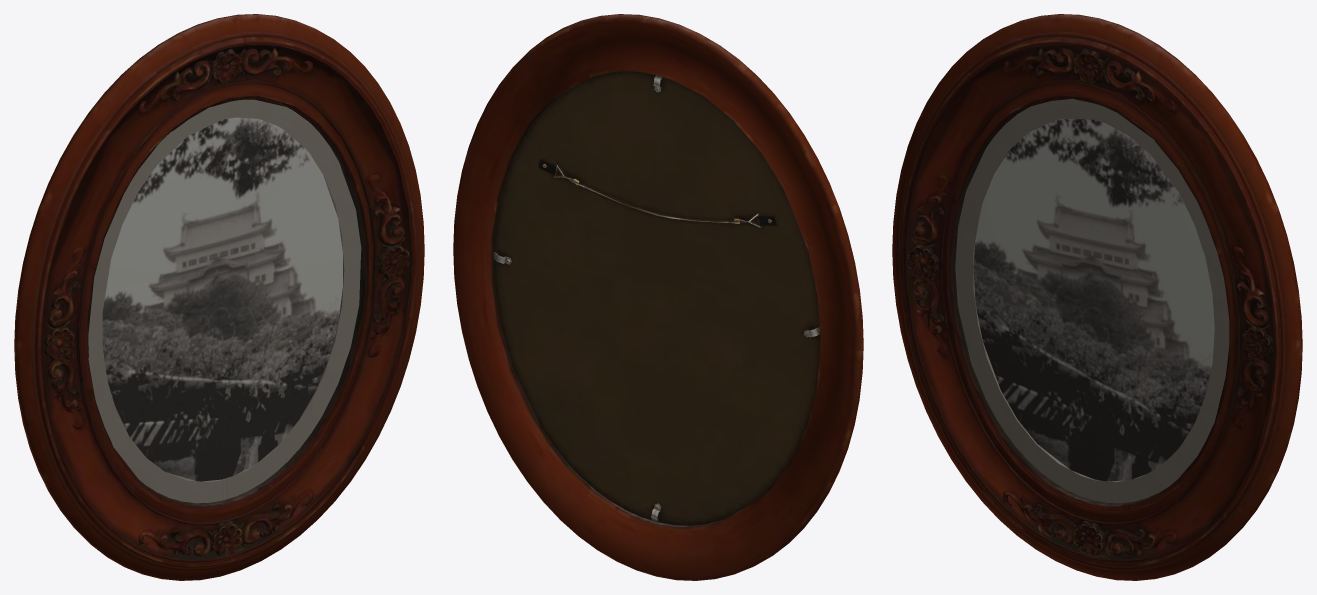
File: frame_round.glb
3 renders of one model, left to right at view 1: azimuth 30°, elevation 25°; view 2: azimuth 150°, elevation 25°; view 3: azimuth 330°, elevation 25°, orthographic.
Parts seen in each view (by area): view 1: hanging_picture_frame_03, hanging_picture_frame_03_glass; view 2: hanging_picture_frame_03; view 3: hanging_picture_frame_03, hanging_picture_frame_03_glass.
Part boxes in pixels (left/top/right/bottom): hanging_picture_frame_03: left=14, top=14, right=424, bottom=580; hanging_picture_frame_03_glass: left=88, top=100, right=364, bottom=504; hanging_picture_frame_03: left=453, top=14, right=863, bottom=580; hanging_picture_frame_03: left=892, top=14, right=1302, bottom=580; hanging_picture_frame_03_glass: left=953, top=99, right=1228, bottom=504.
Bounding box in the file's own units: 0.3847 × 0.502 × 0.0317.
3 materials, 2 textured.
